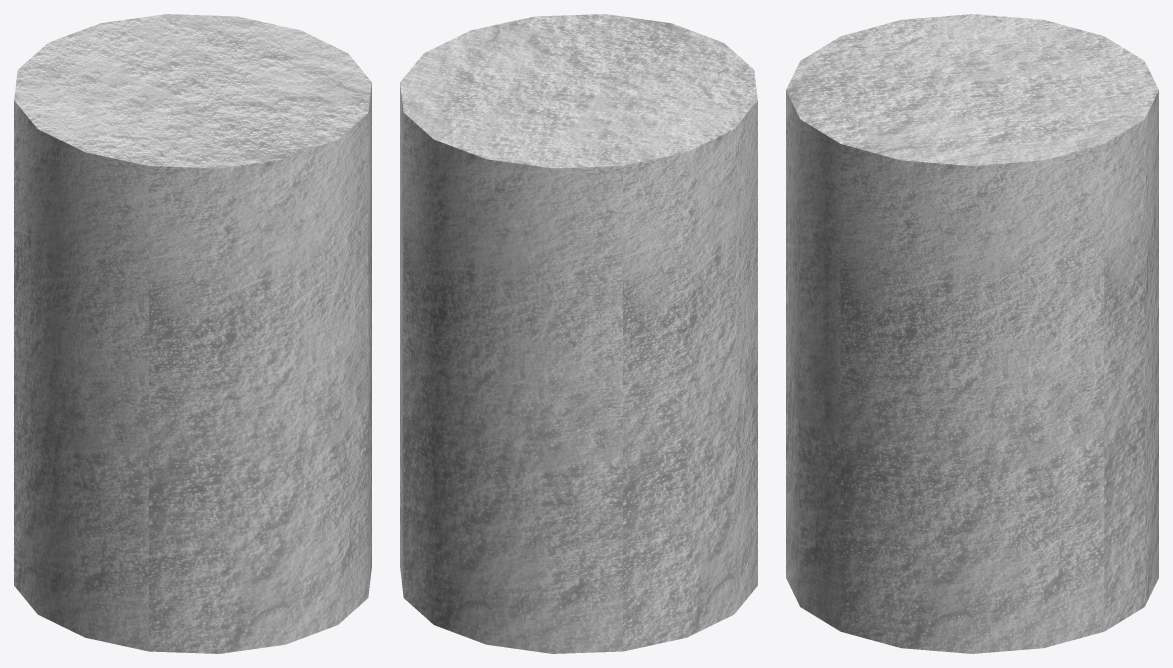
File: SM_溴甲酚绿粉末_002.fbx
3 renders of one model, left to right at view 1: azimuth 30°, elevation 25°; view 2: azimuth 150°, elevation 25°; view 3: azimuth 270°, elevation 25°, orthographic.
Parts seen in each view (by area): view 1: SM_溴甲酚绿粉末_002; view 2: SM_溴甲酚绿粉末_002; view 3: SM_溴甲酚绿粉末_002.
Boxes of the visible parts, left/top/right/bottom form: SM_溴甲酚绿粉末_002: left=14, top=14, right=371, bottom=653; SM_溴甲酚绿粉末_002: left=400, top=14, right=757, bottom=653; SM_溴甲酚绿粉末_002: left=786, top=14, right=1158, bottom=653.
Bounding box in the file's own units: 0.0748 × 0.1118 × 0.0774.
